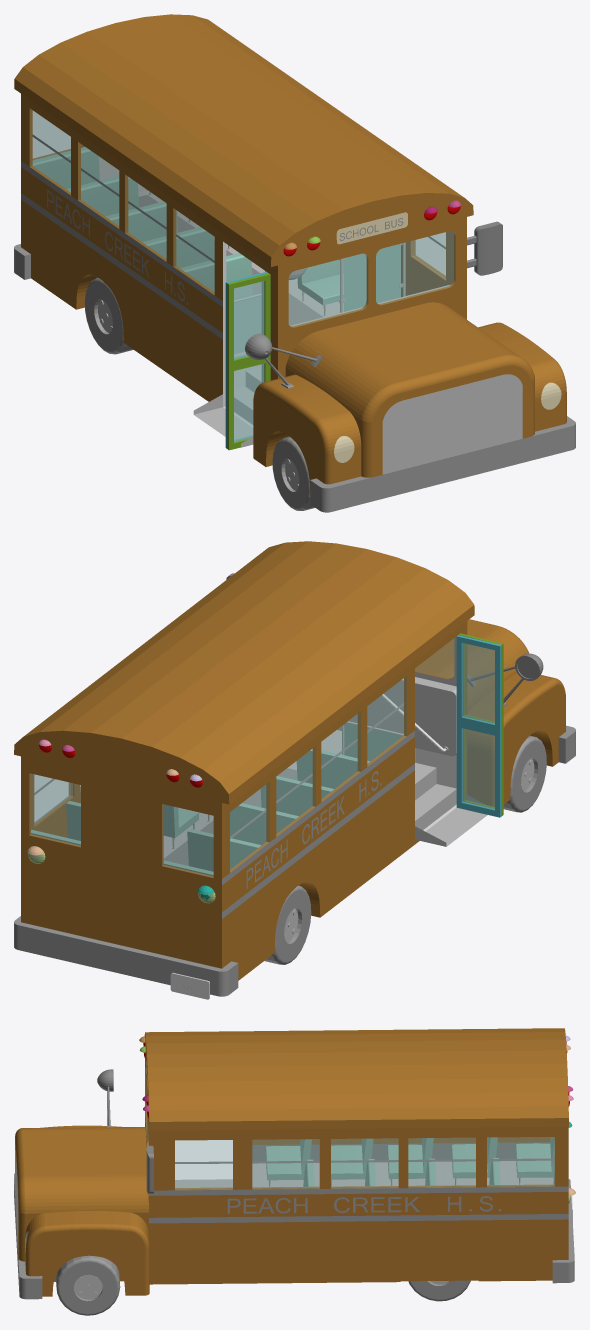
File: xiaoche.fbx
The picture shows the model from 3 angles, top to bottom: view 1: azimuth 30°, elevation 25°; view 2: azimuth 150°, elevation 25°; view 3: azimuth 270°, elevation 25°; orthographic projection. The views are drawn at different scales.
Visible parts, largest first — view 1: polySurface453; view 2: polySurface453; view 3: polySurface453.
Boxes of the visible parts, left/top/right/bottom form: polySurface453: left=14, top=14, right=575, bottom=512; polySurface453: left=14, top=541, right=575, bottom=999; polySurface453: left=14, top=1028, right=575, bottom=1315.
Size of the model in its own units: 107 by 91.72 by 219.
